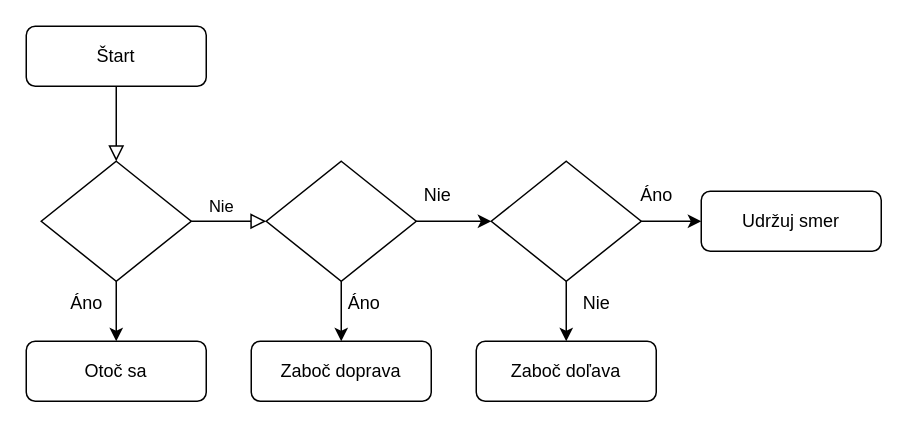
Some shapes in this 908 by 428 pixel diagram are drawn without their labels. The centre of each missing label's shape, as x and y in pixels:
Je ľavá stena bližšie ako pravá?: point (340, 220)
Slepá ulica?: point (115, 220)
Sú rovnako vzdialené?: point (565, 220)
